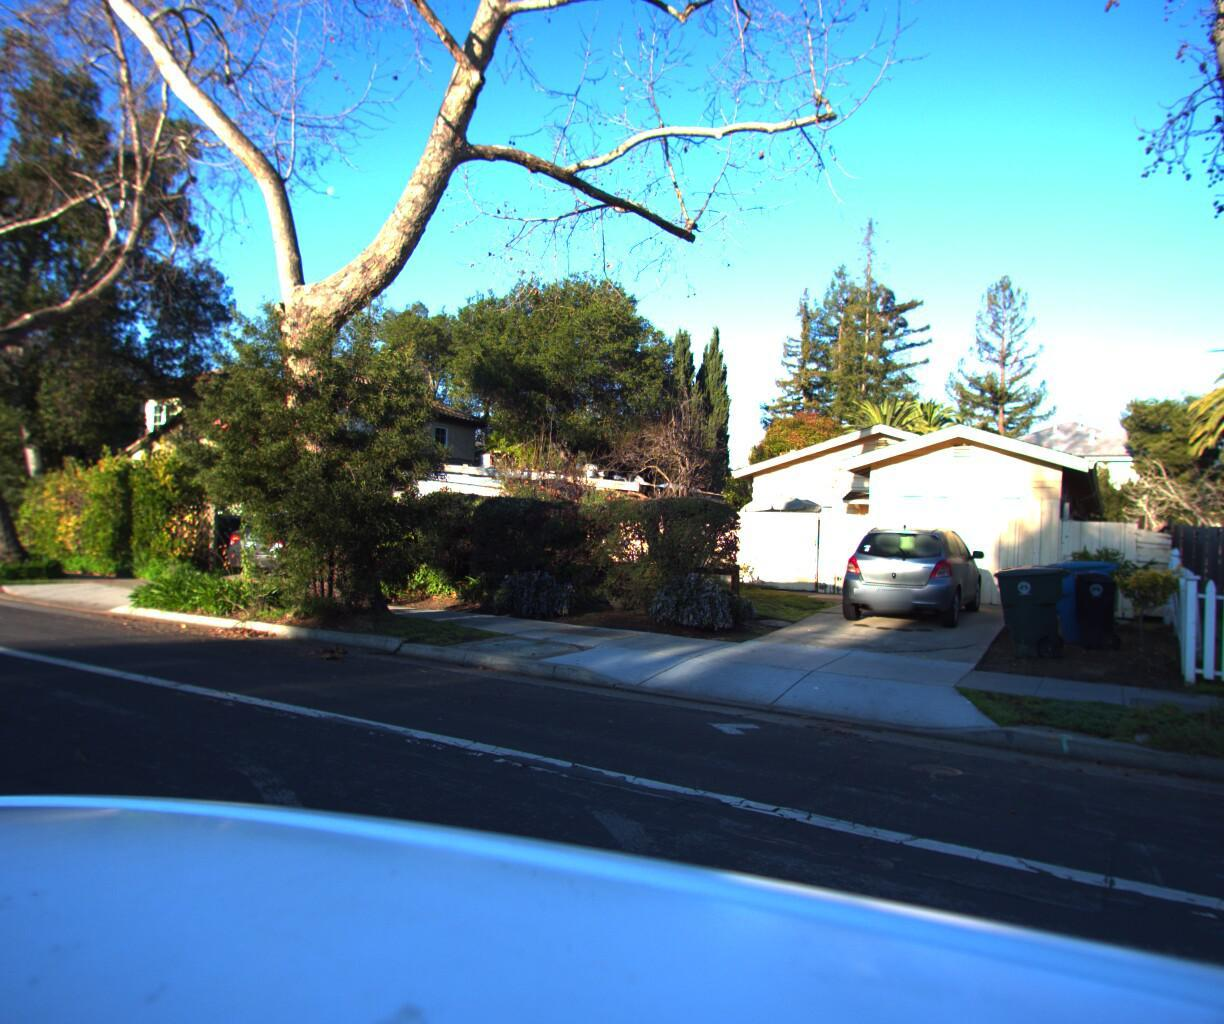car: (830, 509, 997, 628), (207, 499, 427, 579)
